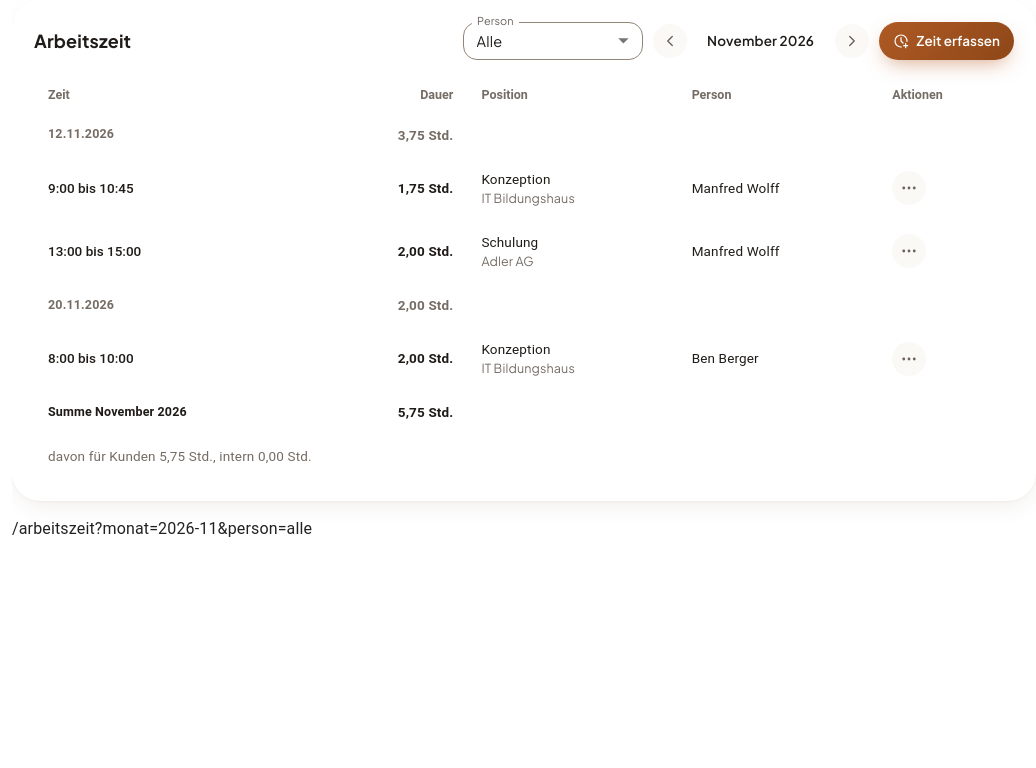
Test: ArbeitszeitPage — Personen (Plan #426, E10, E14, E17) › behaelt die Auswahl der Adresse beim Monatswechsel
Click the button named "Vorheriger Monat": click(670, 41) [653,24,687,58]
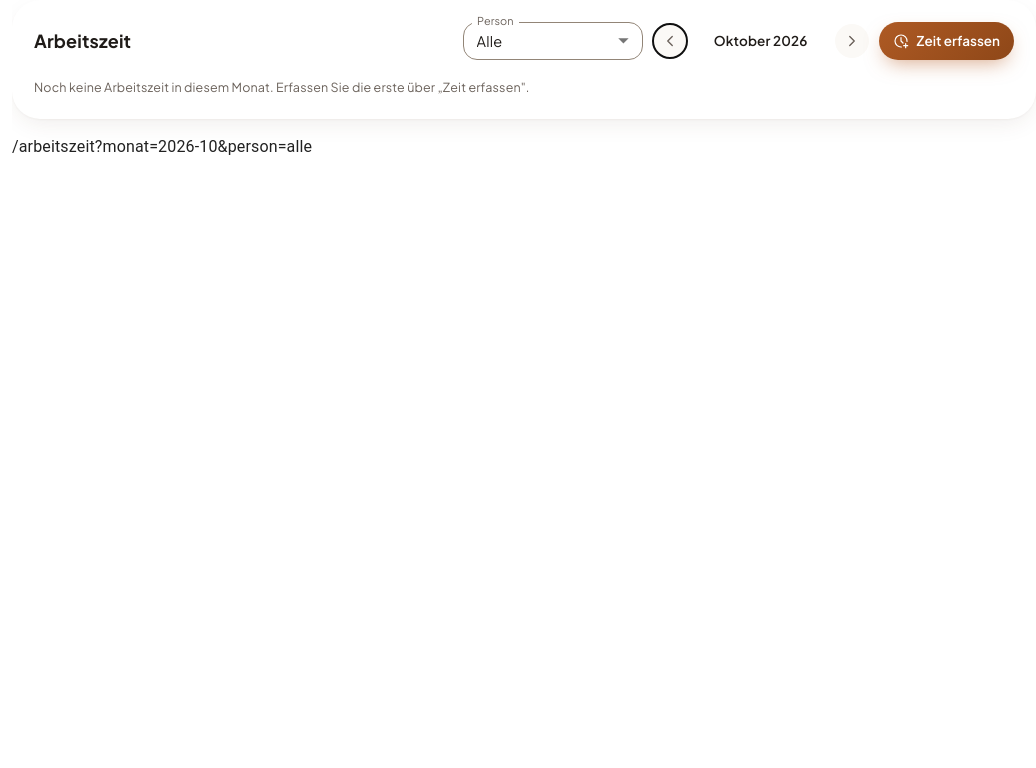
Expected: the text with test id "adresse" reads "/arbeitszeit?monat=2026-10&person=alle", [12,137,312,156]
Expected: the text "Oktober 2026" is shown, [714,32,808,49]
